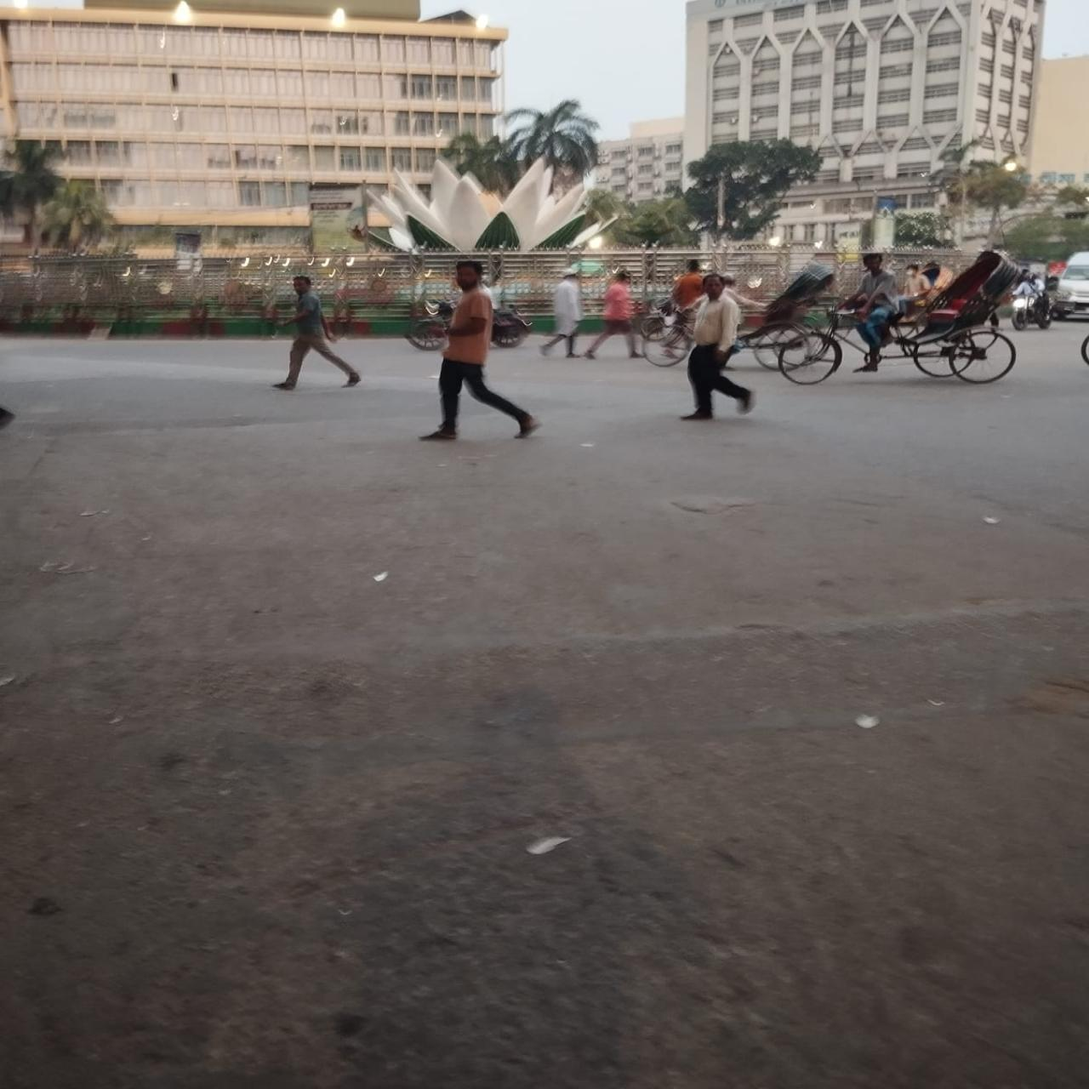person: (415, 260, 543, 442), (677, 274, 760, 422), (271, 275, 363, 395), (587, 270, 648, 363), (541, 269, 586, 360)
